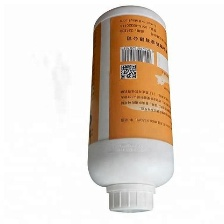insecticide: (85, 2, 176, 217)
